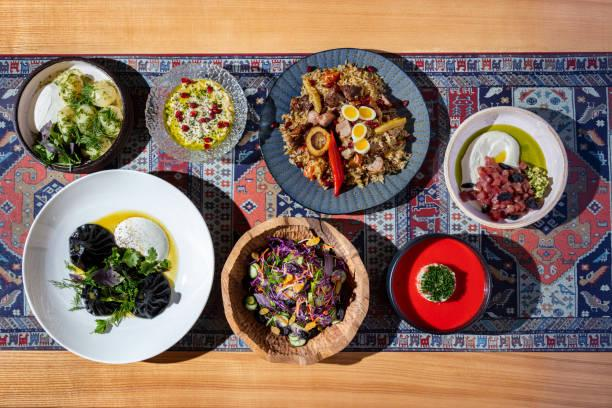Braised Crucian Carp: (20, 169, 211, 365), (259, 47, 429, 215), (220, 216, 368, 364), (443, 105, 566, 230), (17, 53, 134, 177)
